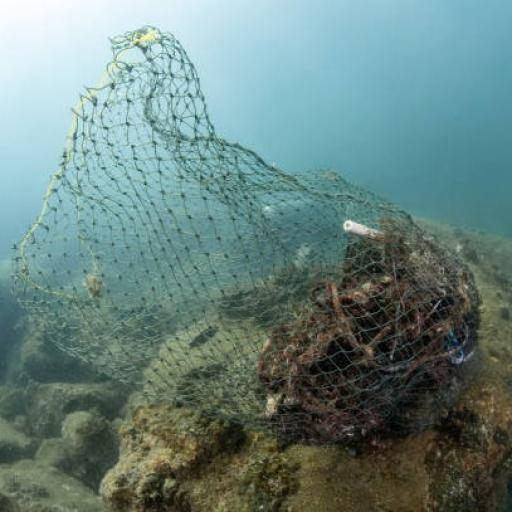net: (0, 25, 483, 438)
